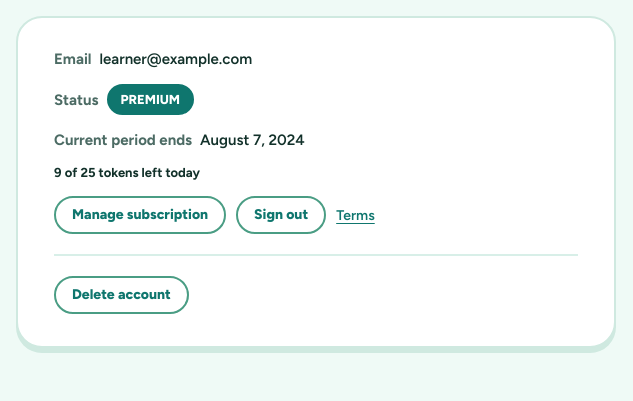
Test case: AccountPageComponent › a rate-limited portal request shows its own message
Click the button "Manage subscription" at (140, 215), box x1=54 y1=196 x2=226 y2=234
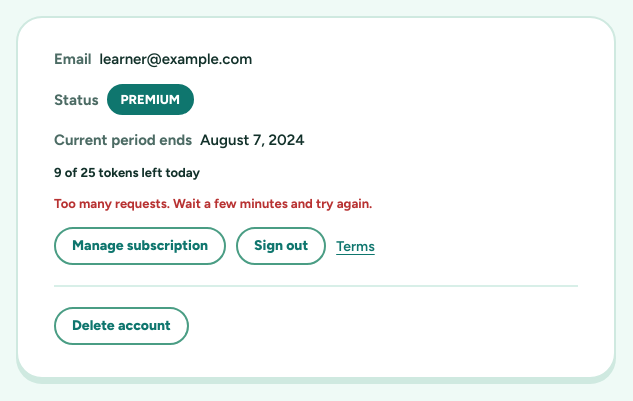
Result: the text "Too many requests. Wait a few minutes and try again." is shown at x1=54 y1=196 x2=372 y2=211
